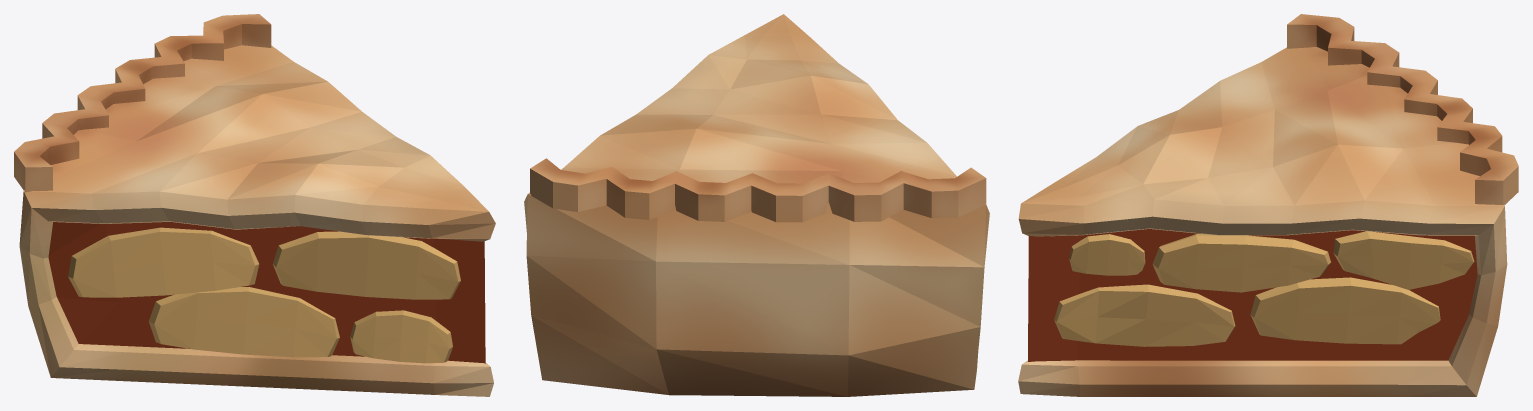
File: ce251736-7a52-4f1f-92ba-6cabb46db4db.glb
3 renders of one model, left to right at view 1: azimuth 30°, elevation 25°; view 2: azimuth 150°, elevation 25°; view 3: azimuth 270°, elevation 25°, orthographic. The views are drawn at different scales.
Visible parts, largest first — view 1: Node; view 2: Node; view 3: Node.
Part boxes in pixels (box(x1,y1,x2,y2)): Node: box(14, 14, 495, 396); Node: box(524, 14, 989, 396); Node: box(1018, 14, 1518, 396).
Bounding box in the file's own units: 2.27 × 1.32 × 2.78.
3 materials, 1 textured.
